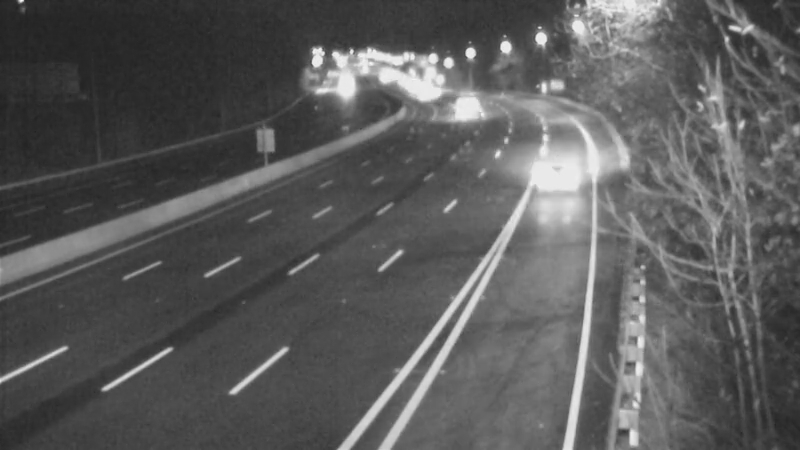vehicle: (513, 136, 593, 216), (398, 66, 448, 116), (443, 79, 493, 129), (442, 90, 492, 140)
